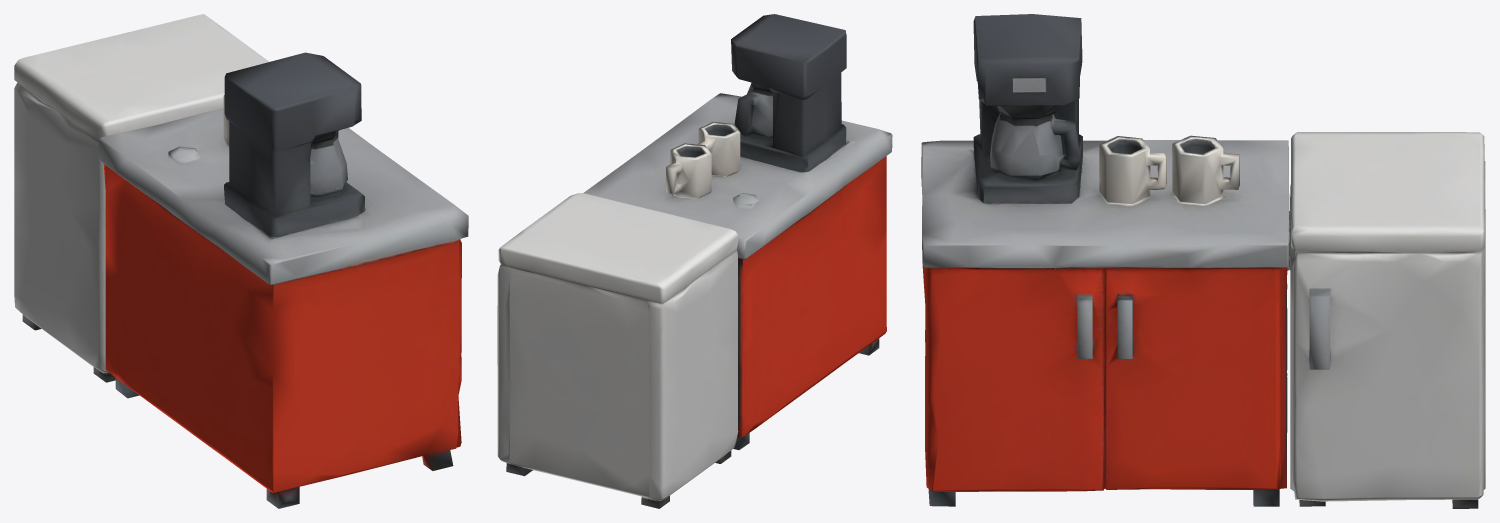
The model's file is kitchenette.glb.
3 views of the same model, side by side, from view 1: azimuth 30°, elevation 25°; view 2: azimuth 150°, elevation 25°; view 3: azimuth 270°, elevation 25° (orthographic). The views are drawn at different scales.
Visible parts, largest first — view 1: tripo_node_3ae3fc6b-cf9b-492b-8041-49090e6c3dcc; view 2: tripo_node_3ae3fc6b-cf9b-492b-8041-49090e6c3dcc; view 3: tripo_node_3ae3fc6b-cf9b-492b-8041-49090e6c3dcc.
Boxes of the visible parts, box(x1,y1,x2,y2) form: tripo_node_3ae3fc6b-cf9b-492b-8041-49090e6c3dcc: box(14, 14, 468, 508); tripo_node_3ae3fc6b-cf9b-492b-8041-49090e6c3dcc: box(497, 14, 892, 508); tripo_node_3ae3fc6b-cf9b-492b-8041-49090e6c3dcc: box(921, 14, 1485, 508).
Size of the model in its own units: 0.475 by 0.8014 by 1.
1 material, 1 textured.
